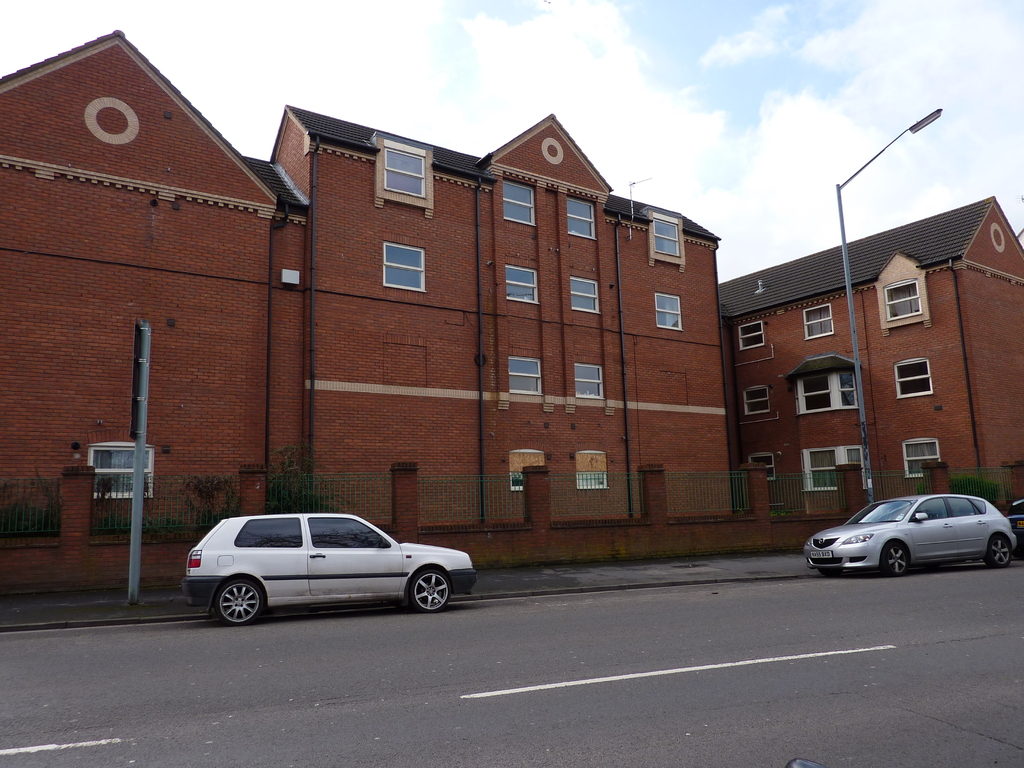Car: (177, 513, 475, 624), (802, 493, 1015, 576), (1008, 499, 1023, 550)
